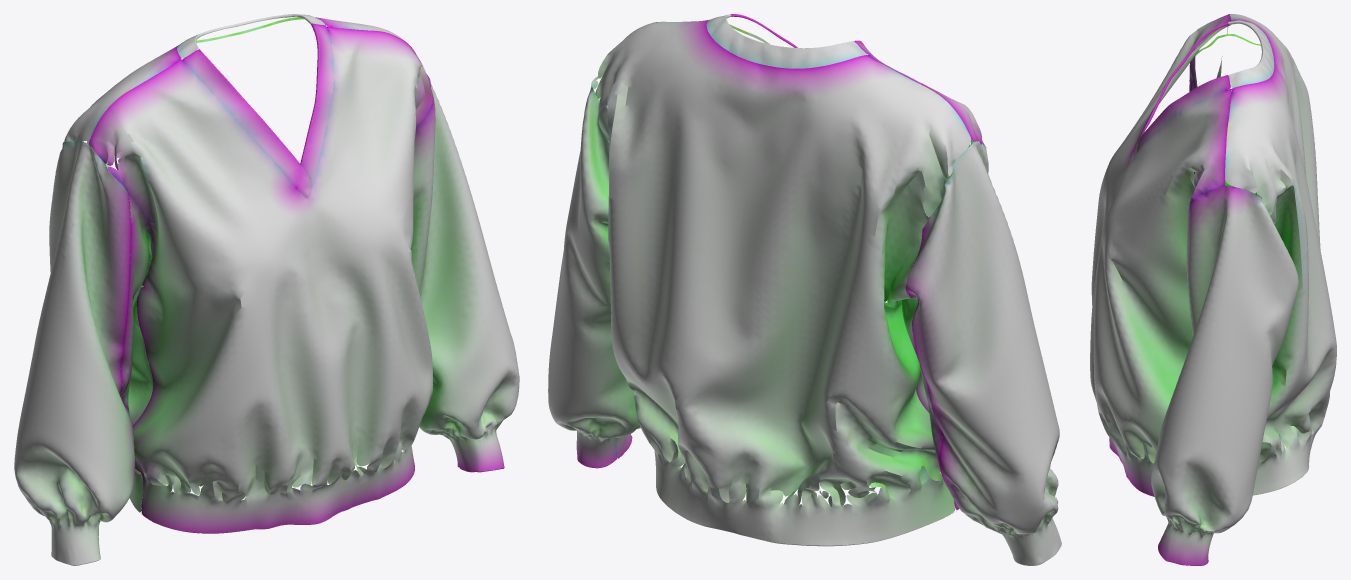
Rendered from balloonsweat.glb.
3 renders of one model, left to right at view 1: azimuth 30°, elevation 25°; view 2: azimuth 150°, elevation 25°; view 3: azimuth 270°, elevation 25°, orthographic. The views are drawn at different scales.
Visible parts, largest first — view 1: front, sleeve_r, sleeve_l, back, collar; view 2: back, sleeve_r, sleeve_l, collar, front; view 3: front, sleeve_l, back, collar.
Part boxes in pixels (x1,y1,x2,y2): front: (88,23,433,533); sleeve_r: (14,141,143,565); sleeve_l: (410,83,519,472); back: (64,17,404,514); collar: (177,14,325,59); back: (596,19,972,546); sleeve_r: (906,141,1061,565); sleeve_l: (548,74,640,468); collar: (706,14,866,68); front: (729,14,984,509); front: (1090,14,1231,496); sleeve_l: (1151,185,1298,565); back: (1225,14,1336,495); collar: (1228,20,1274,88).
Bounding box in the file's own units: 0.7338 × 0.7 × 0.3666.
